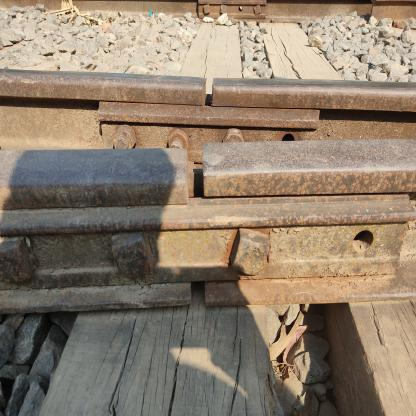Defective 2: (183, 70, 232, 115)
Defective 3: (0, 184, 413, 302), (90, 96, 320, 148)
